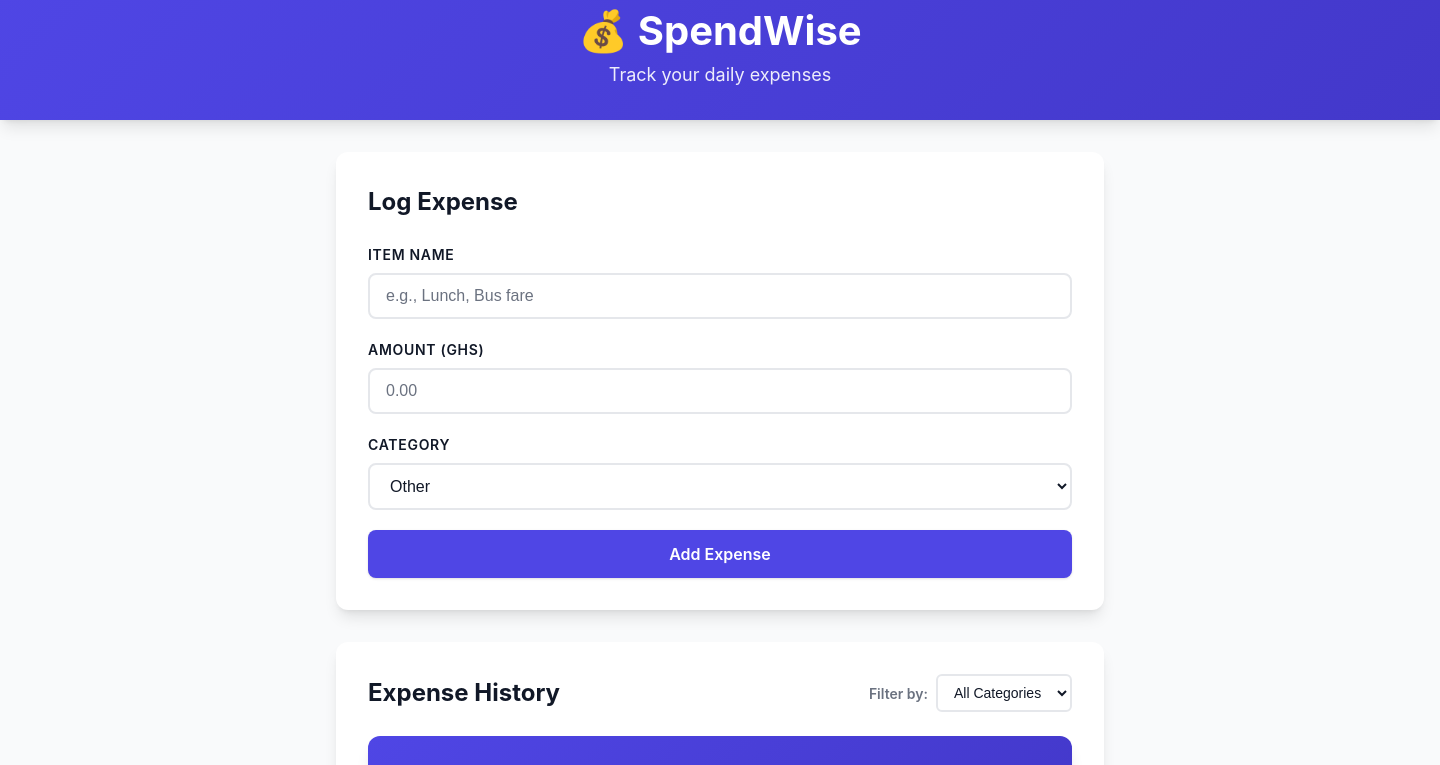
User Story 5: Filter by Category - Frontend UI › AC #3: Total updates to show filtered sum › should display filtered total correctly
Select "Transport" in the dropdown labelled "Filter by:" at (1004, 693), box [936, 674, 1072, 712]
(page scrolled)
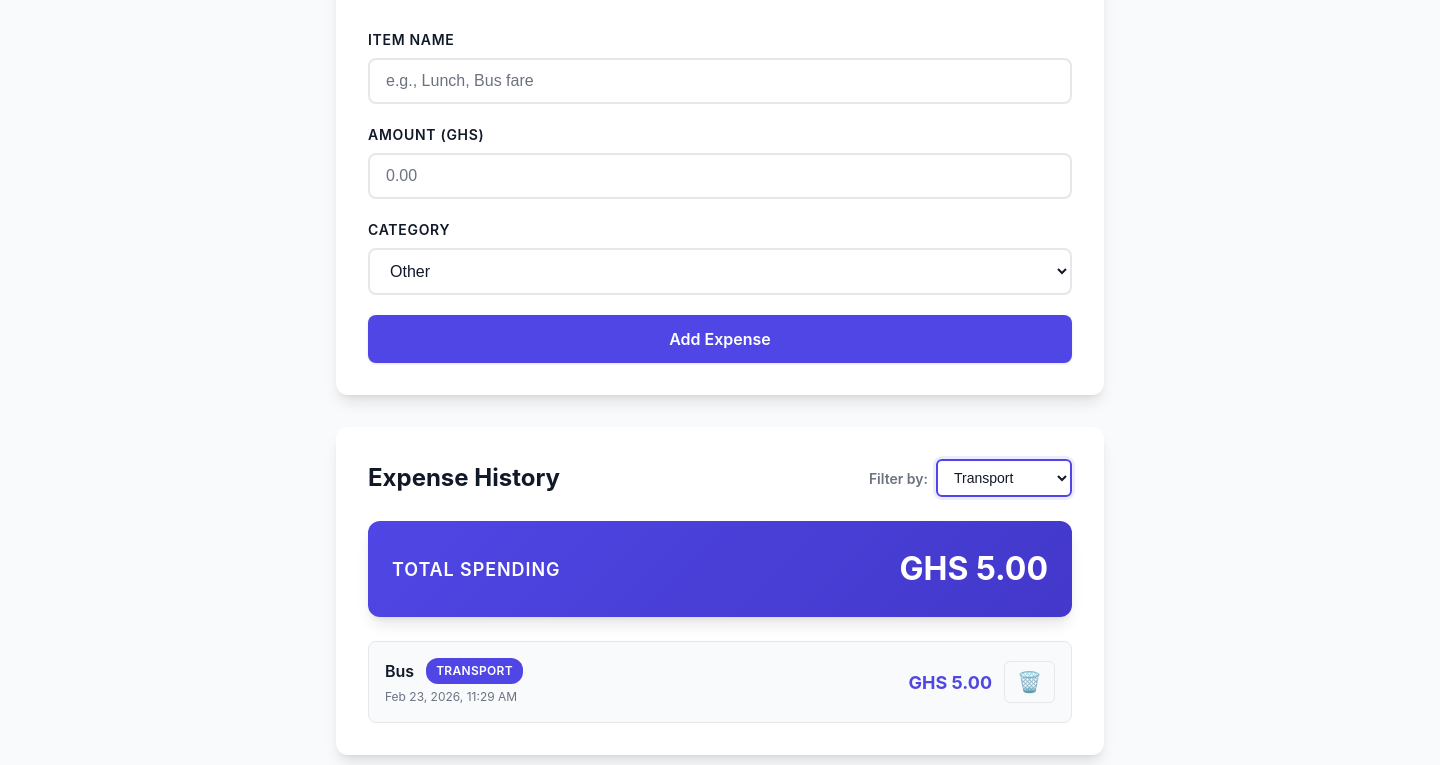
expect the text "GHS 5.00" in the row of "Total Spending" is shown: met, box [900, 545, 1048, 593]
